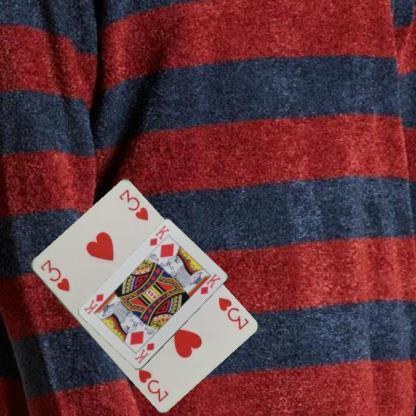3h: (37, 256, 71, 293), (216, 294, 249, 332)
Kd: (147, 222, 171, 248), (132, 340, 156, 365)
